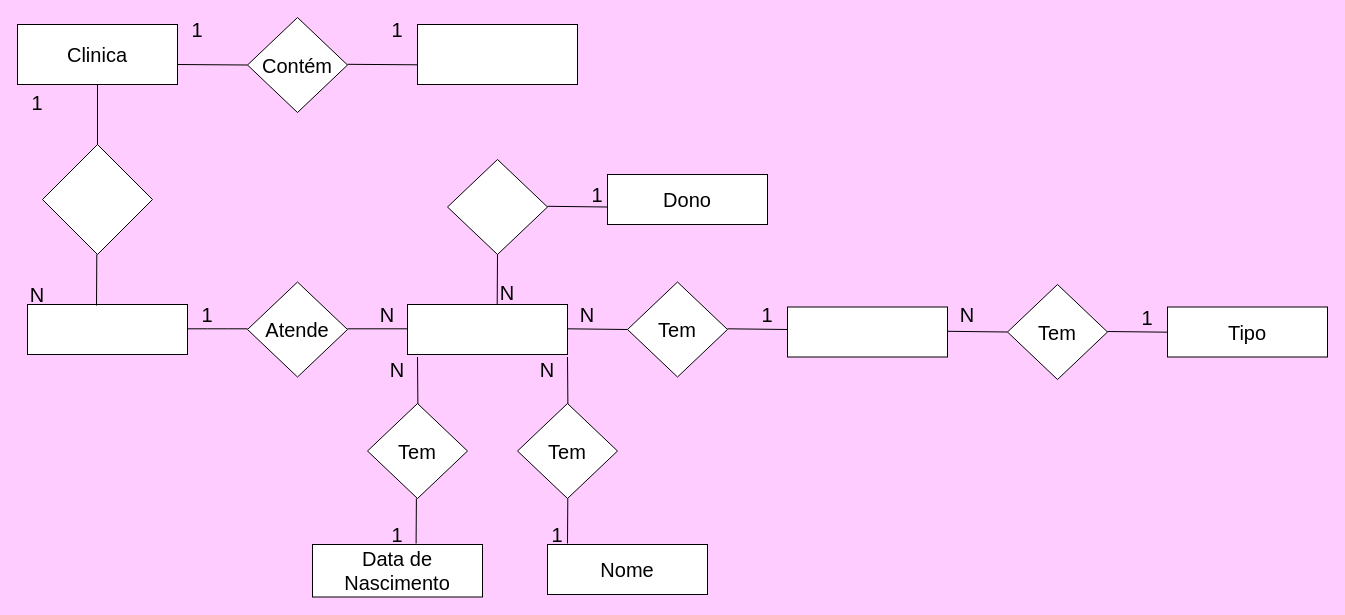
This 1345x615 diagram has some shape labels left out. The box of each missing label's shape, as (x1, y1, x2, y2) in pixels:
Cadastra: (42, 144, 152, 254)
Endereço: (416, 24, 578, 84)
Pets: (406, 304, 568, 354)
Possui: (446, 158, 548, 254)
Raça: (786, 306, 948, 357)
Veterinários: (26, 304, 188, 354)
